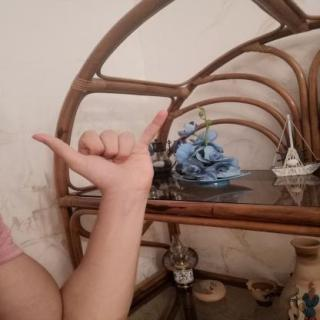YA: (22, 103, 182, 200)
